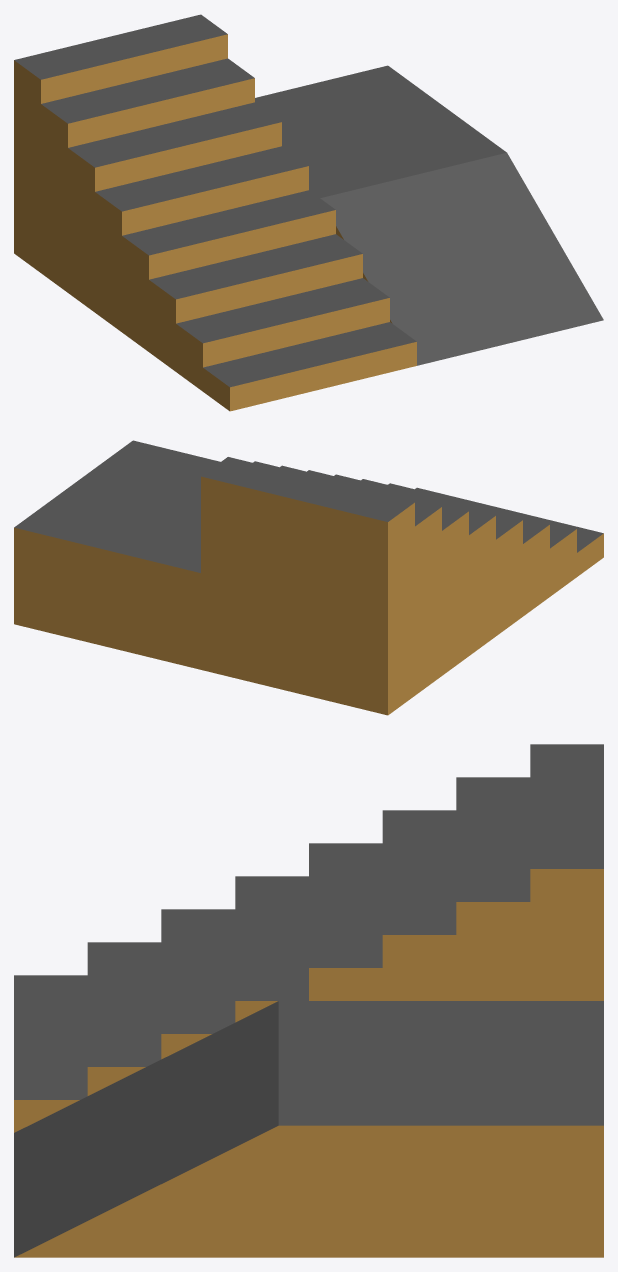
The model's file is Skate_Stairs_w_Wedge_Half_01.FBX.
3 renders of one model, top to bottom at view 1: azimuth 30°, elevation 25°; view 2: azimuth 150°, elevation 25°; view 3: azimuth 270°, elevation 25°, orthographic. The views are drawn at different scales.
Parts seen in each view (by area): view 1: Skate_Stairs_w_Wedge_Half_01; view 2: Skate_Stairs_w_Wedge_Half_01; view 3: Skate_Stairs_w_Wedge_Half_01.
Part boxes in pixels (left/top/right/bottom): Skate_Stairs_w_Wedge_Half_01: left=14, top=14, right=603, bottom=411; Skate_Stairs_w_Wedge_Half_01: left=14, top=440, right=603, bottom=715; Skate_Stairs_w_Wedge_Half_01: left=14, top=744, right=603, bottom=1257.
Bounding box in the file's own units: 3 × 1.48 × 3.
